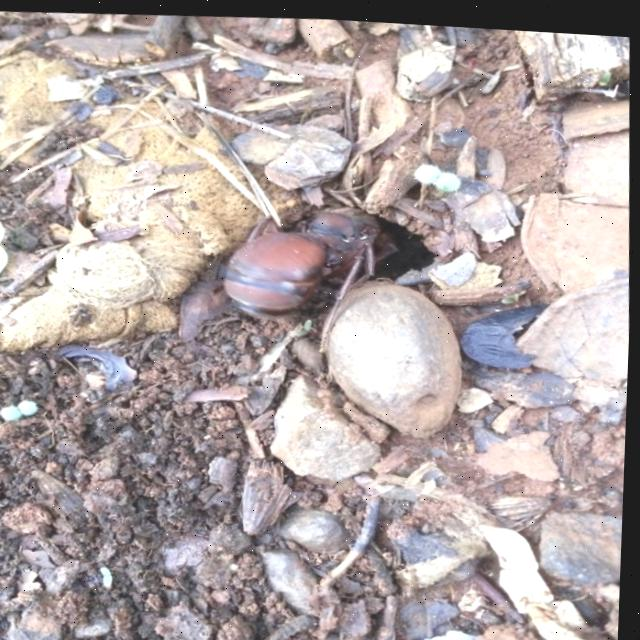Alive-Female-Dealate: (220, 194, 404, 354)
